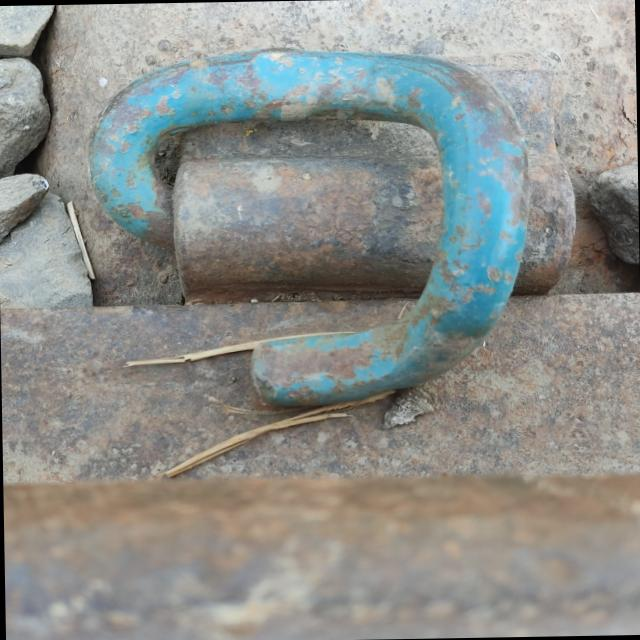track_bolt: (84, 40, 534, 415)
